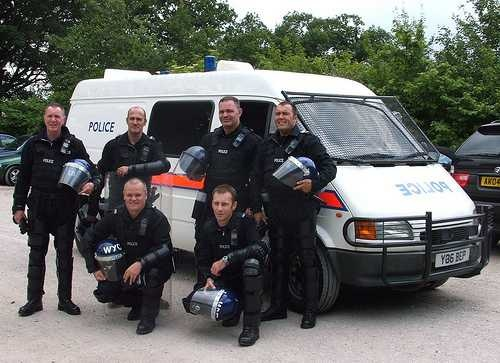Police Van: (50, 60, 487, 298)
